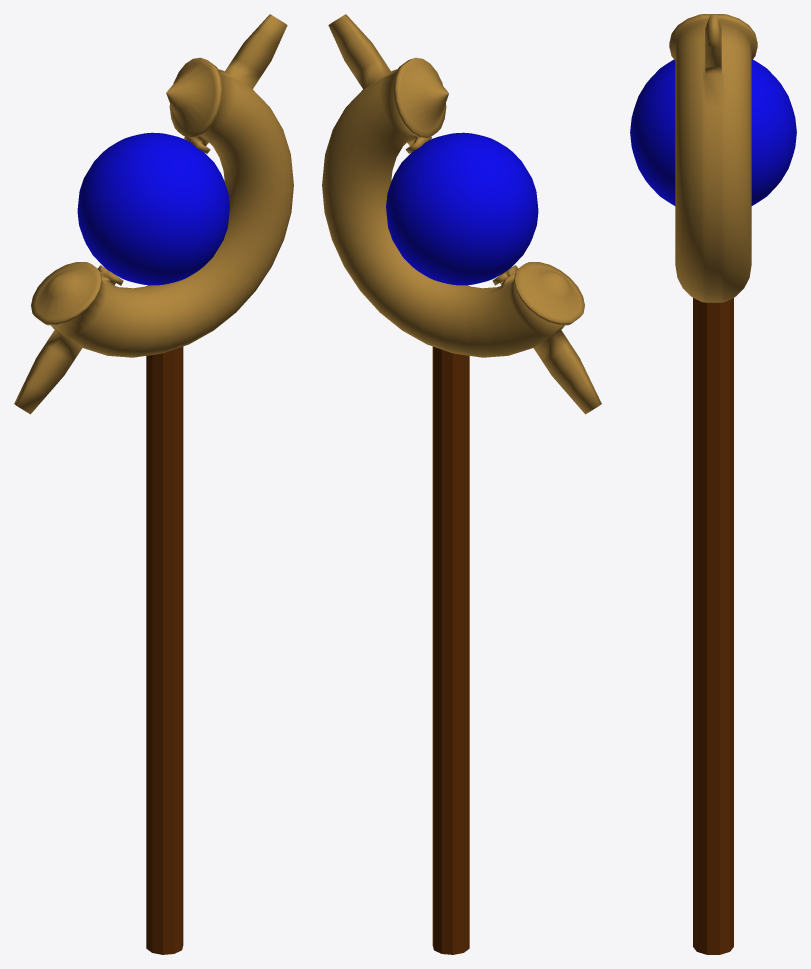
Rendered from MAGE_STAFF.fbx.
The picture shows the model from 3 angles, left to right: view 1: azimuth 30°, elevation 25°; view 2: azimuth 150°, elevation 25°; view 3: azimuth 270°, elevation 25°; orthographic projection. The views are drawn at different scales.
Parts seen in each view (by area): view 1: STAFF_HOLD_ORB, STAFF_HILT, ORB; view 2: STAFF_HOLD_ORB, STAFF_HILT, ORB; view 3: STAFF_HILT, STAFF_HOLD_ORB, ORB.
Boxes of the visible parts, left/top/right/bottom form: STAFF_HOLD_ORB: left=14, top=14, right=293, bottom=414; STAFF_HILT: left=146, top=346, right=183, bottom=954; ORB: left=77, top=132, right=229, bottom=285; STAFF_HOLD_ORB: left=322, top=14, right=601, bottom=414; STAFF_HILT: left=432, top=346, right=469, bottom=954; ORB: left=386, top=132, right=538, bottom=285; STAFF_HILT: left=693, top=298, right=733, bottom=954; STAFF_HOLD_ORB: left=669, top=14, right=757, bottom=302; ORB: left=630, top=59, right=796, bottom=205.
Size of the model in its own units: 4.17 by 2.02 by 13.21.
